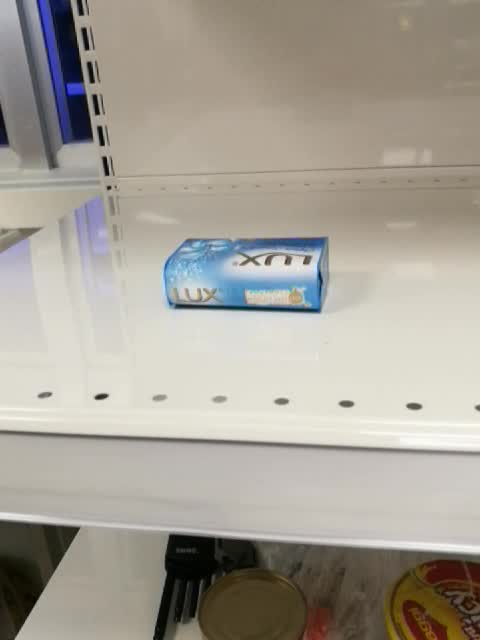soap: (161, 236, 332, 315)
